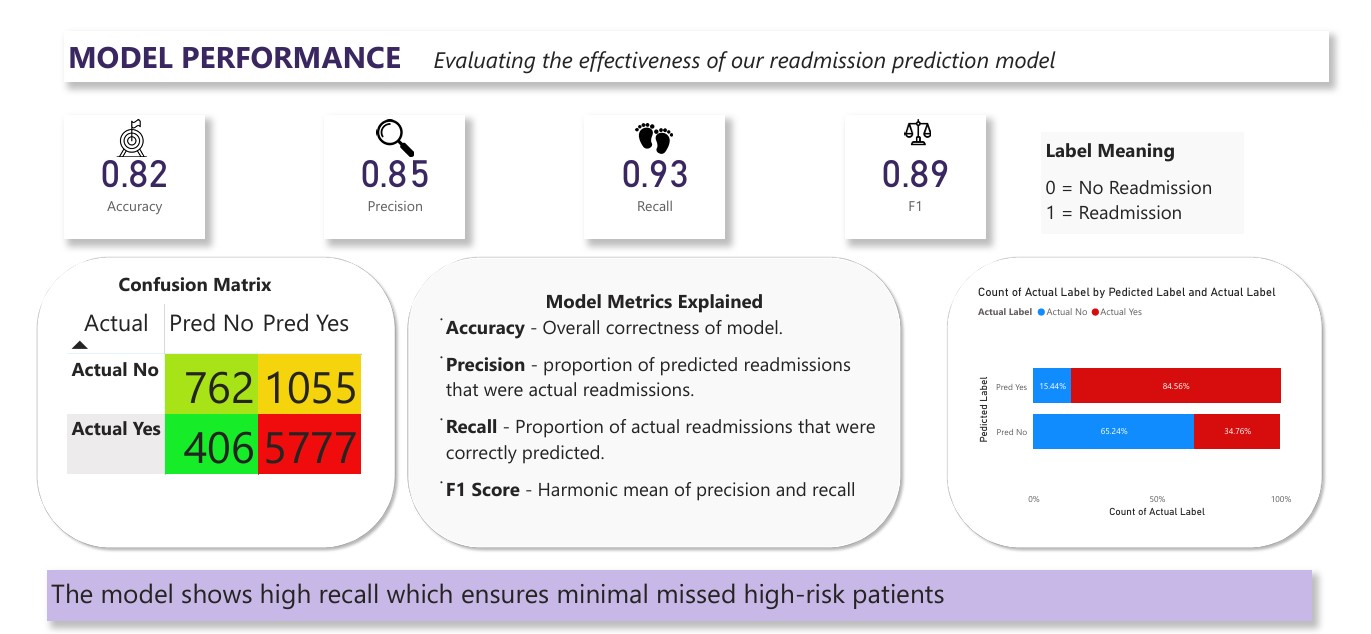

What the dashboard file says about the page in this screenshot:
{"tool":"powerbi","page":{"name":"Page 3","canvas":[1920,1080],"ordinal":2},"visuals":[{"type":"shape","box":[24,336,528,432],"z":0},{"type":"shape","box":[1320,336,552,432],"z":1000},{"type":"shape","box":[552,336,720,432],"z":2000},{"type":"hundredPercentStackedBarChart","fields":{"Category":["Table 1 (Sheet 1).Pedicted Label"],"Y":["CountNonNull(Table 1 (Sheet 1).Actual Label)"],"Series":["Table 1 (Sheet 1).Actual Label"]},"box":[1368,384,456,336],"z":3000},{"type":"pivotTable","fields":{"Rows":["Table 1 (Sheet 1).Actual Label"],"Values":["CountNonNull(Table 1 (Sheet 1).patient_id)"],"Columns":["Table 1 (Sheet 1).Pedicted Label"]},"box":[72,408,456,288],"z":4000},{"type":"card","fields":{"Values":["Table 1 (Sheet 1).Accuracy"]},"box":[72,144,200,176],"z":5000},{"type":"card","fields":{"Values":["Table 1 (Sheet 1).Precision"]},"box":[442.7,144,200,176],"z":6000},{"type":"card","fields":{"Values":["Table 1 (Sheet 1).Recall"]},"box":[813.3,144,200,176],"z":7000},{"type":"card","fields":{"Values":["Table 1 (Sheet 1).F1"]},"box":[1184,144,200,176],"z":8000},{"type":"textbox","box":[592,384,640,320],"z":9000},{"type":"textbox","box":[72,24,1800,72],"z":10000},{"type":"textbox","box":[1464,168,288,144],"z":11000},{"type":"textbox","box":[48,792,1800,72],"z":12000},{"type":"textbox","box":[144,360,288,48],"z":13000},{"type":"image","box":[128,144,80,64],"z":18000},{"type":"image","box":[496,144,96,64],"z":19000},{"type":"image","box":[864,144,96,64],"z":20000},{"type":"image","box":[1232,144,112,48],"z":21000}]}

Visuals, with their boxes on the page's 1920x1080 design canvas (x1, y1, x2, y2). These are canvas units, not pixel positions in the 1371x634 screenshot, which may show the page scaled, cropped or inside an application window:
shape: [x1=24, y1=336, x2=552, y2=768]
shape: [x1=1320, y1=336, x2=1872, y2=768]
shape: [x1=552, y1=336, x2=1272, y2=768]
hundredPercentStackedBarChart - Table 1 (Sheet 1).Pedicted Label x CountNonNull(Table 1 (Sheet 1).Actual Label): [x1=1368, y1=384, x2=1824, y2=720]
pivotTable - Table 1 (Sheet 1).Actual Label x CountNonNull(Table 1 (Sheet 1).patient_id): [x1=72, y1=408, x2=528, y2=696]
card - Table 1 (Sheet 1).Accuracy: [x1=72, y1=144, x2=272, y2=320]
card - Table 1 (Sheet 1).Precision: [x1=443, y1=144, x2=643, y2=320]
card - Table 1 (Sheet 1).Recall: [x1=813, y1=144, x2=1013, y2=320]
card - Table 1 (Sheet 1).F1: [x1=1184, y1=144, x2=1384, y2=320]
textbox: [x1=592, y1=384, x2=1232, y2=704]
textbox: [x1=72, y1=24, x2=1872, y2=96]
textbox: [x1=1464, y1=168, x2=1752, y2=312]
textbox: [x1=48, y1=792, x2=1848, y2=864]
textbox: [x1=144, y1=360, x2=432, y2=408]
image: [x1=128, y1=144, x2=208, y2=208]
image: [x1=496, y1=144, x2=592, y2=208]
image: [x1=864, y1=144, x2=960, y2=208]
image: [x1=1232, y1=144, x2=1344, y2=192]
